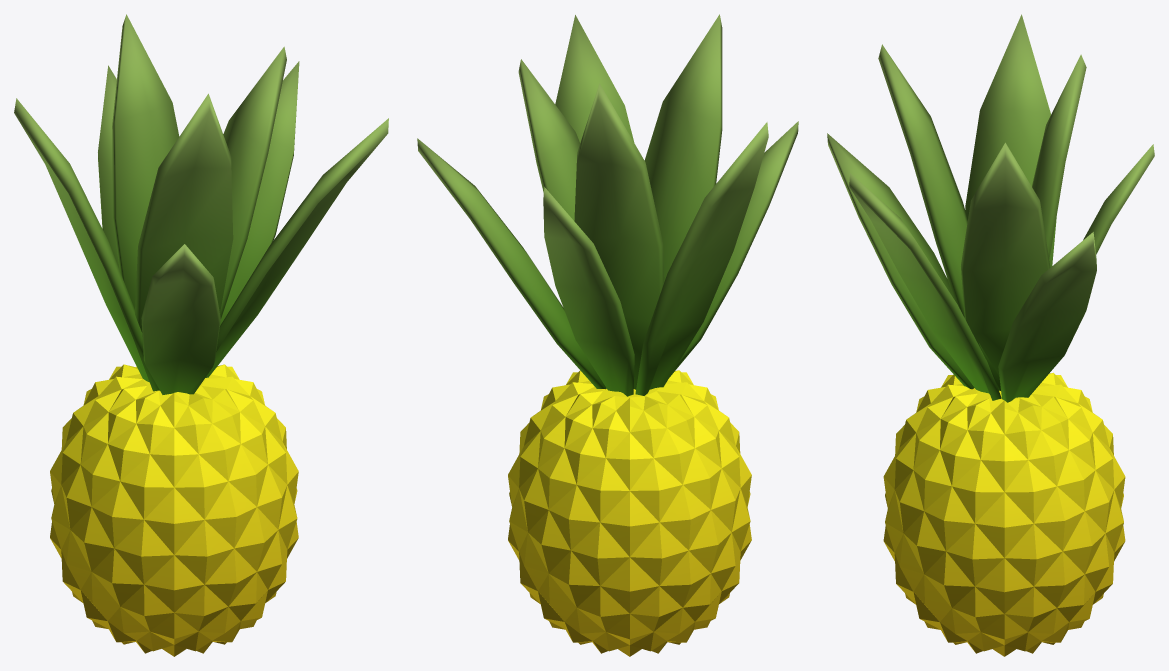
Rendered from Pineapple.fbx.
The picture shows the model from 3 angles, left to right: view 1: azimuth 30°, elevation 25°; view 2: azimuth 150°, elevation 25°; view 3: azimuth 270°, elevation 25°; orthographic projection. The views are drawn at different scales.
Visible parts, largest first — view 1: Base.003, Leave.004, Leave.006, Leave, Leave.005, Leave.002, Leave.001, Leave.007, Leave.003; view 2: Base.003, Leave.006, Leave.002, Leave.004, Leave.003, Leave.007, Leave.001, Leave.005, Leave; view 3: Base.003, Leave.001, Leave.007, Leave.002, Leave.004, Leave.005, Leave, Leave.006, Leave.003.
Part boxes in pixels (x1=…): Base.003: x1=50, y1=364, x2=298, y2=656; Leave.004: x1=135, y1=93, x2=233, y2=332; Leave.006: x1=112, y1=14, x2=179, y2=309; Leave: x1=141, y1=244, x2=220, y2=394; Leave.005: x1=205, y1=118, x2=388, y2=377; Leave.002: x1=14, y1=98, x2=159, y2=391; Leave.001: x1=220, y1=46, x2=286, y2=318; Leave.007: x1=220, y1=61, x2=299, y2=325; Leave.003: x1=98, y1=65, x2=119, y2=269; Base.003: x1=508, y1=370, x2=751, y2=656; Leave.006: x1=574, y1=83, x2=664, y2=389; Leave.002: x1=635, y1=122, x2=768, y2=395; Leave.004: x1=644, y1=14, x2=722, y2=281; Leave.003: x1=543, y1=187, x2=634, y2=396; Leave.007: x1=417, y1=138, x2=606, y2=389; Leave.001: x1=518, y1=59, x2=580, y2=220; Leave.005: x1=555, y1=15, x2=634, y2=142; Leave: x1=670, y1=121, x2=798, y2=376; Base.003: x1=883, y1=372, x2=1125, y2=656; Leave.001: x1=961, y1=142, x2=1050, y2=375; Leave.007: x1=998, y1=232, x2=1096, y2=402; Leave.002: x1=965, y1=14, x2=1056, y2=267; Leave.004: x1=878, y1=44, x2=1000, y2=390; Leave.005: x1=849, y1=173, x2=1001, y2=400; Leave: x1=827, y1=133, x2=974, y2=389; Leave.006: x1=1032, y1=54, x2=1086, y2=258; Leave.003: x1=1083, y1=144, x2=1154, y2=254.
Bounding box in the file's own units: 123 × 216 × 112.
